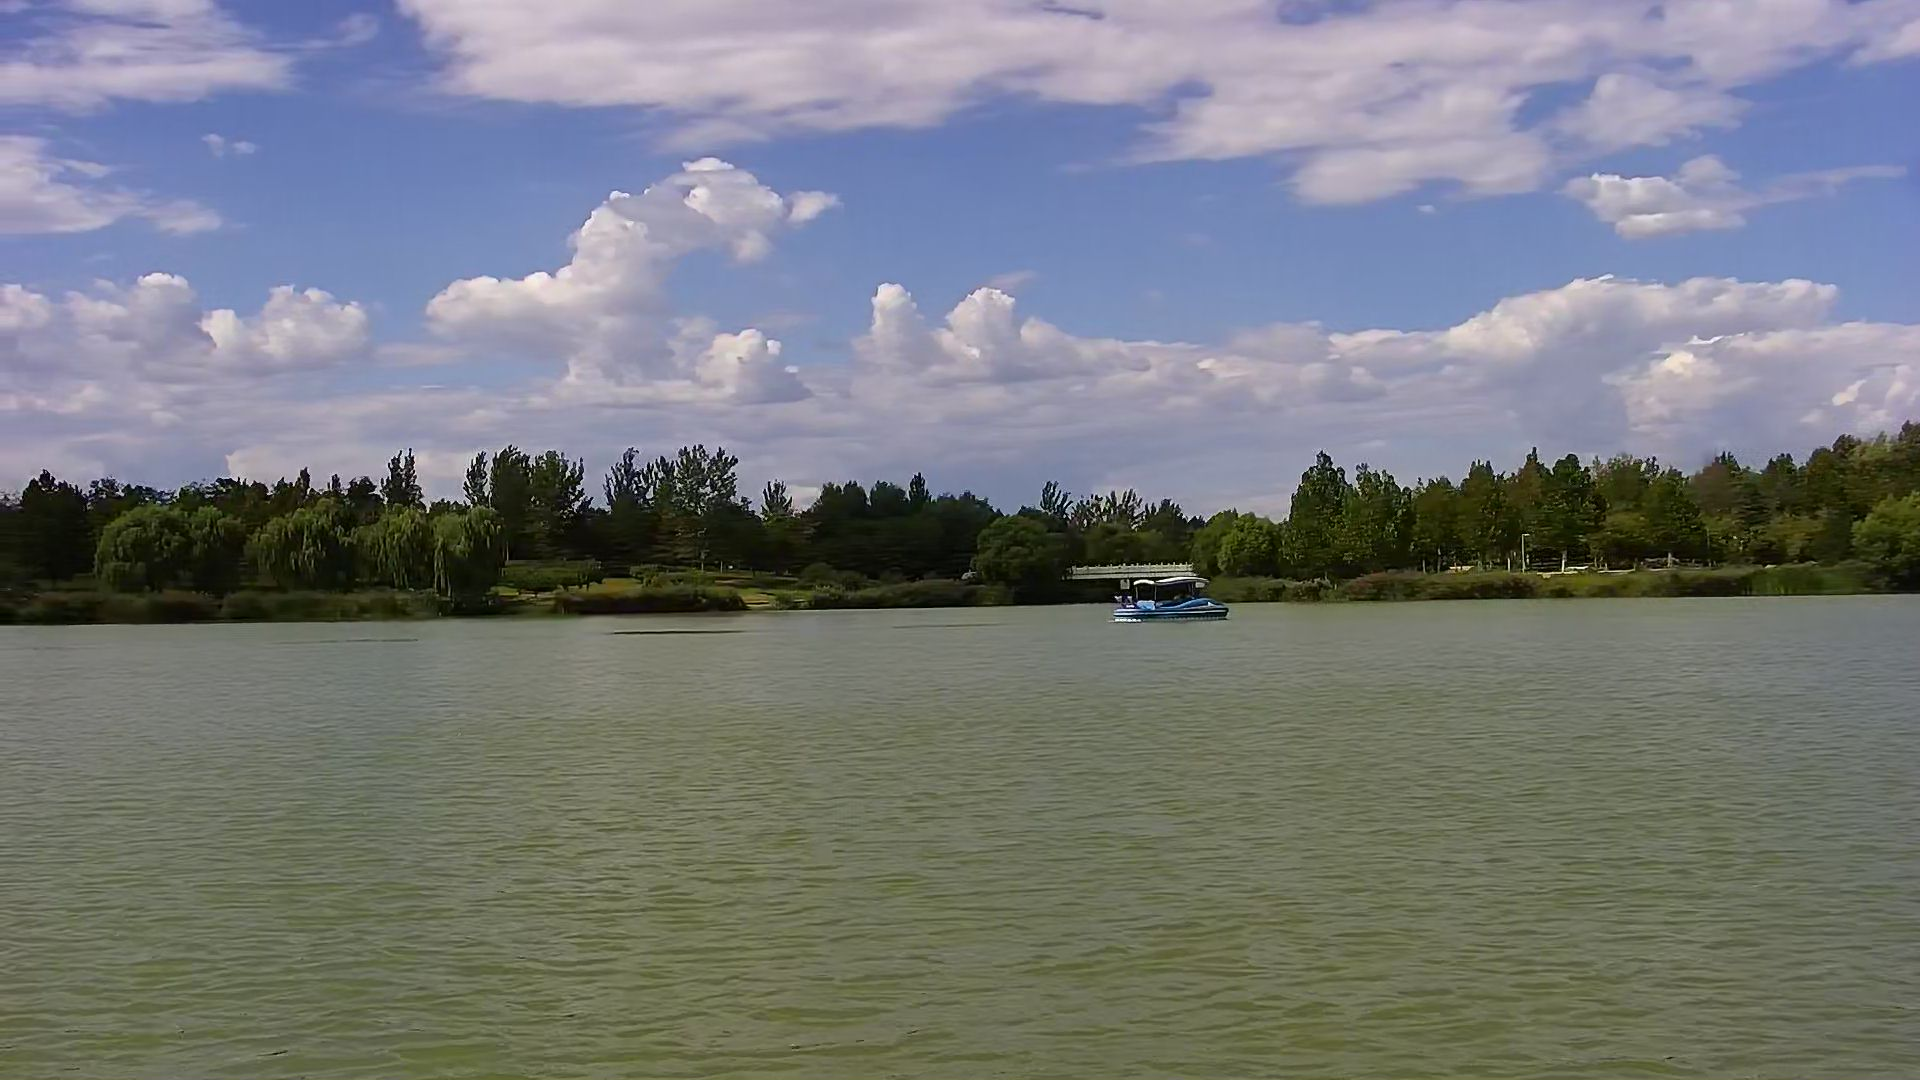boat: (1112, 578, 1215, 613)
bridge: (1073, 560, 1203, 593)
